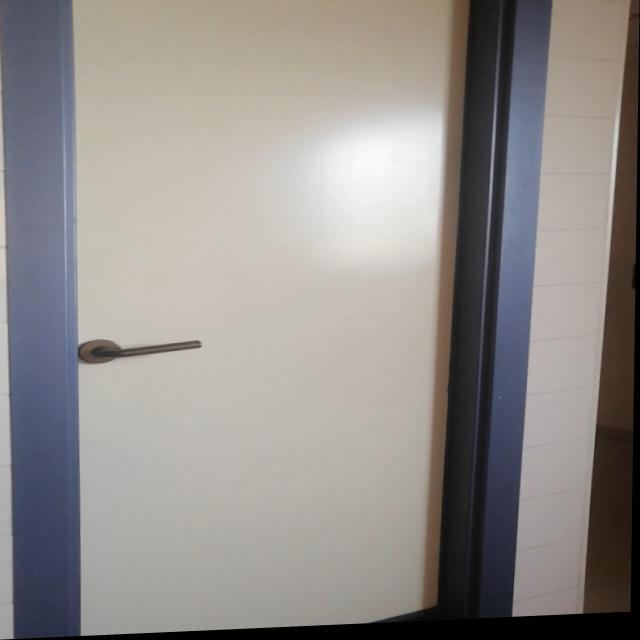door_handle: (89, 340, 207, 361)
